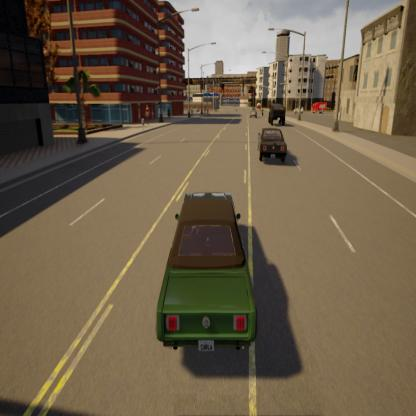Cars: (145, 174, 265, 372), (255, 130, 298, 170), (265, 98, 288, 126), (311, 102, 328, 116), (249, 108, 259, 119), (294, 105, 306, 114)
Pedestrian: (144, 100, 153, 128)
